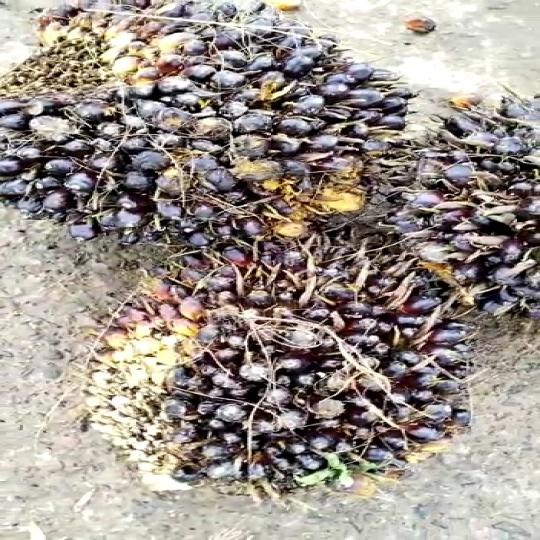mentah: (82, 244, 482, 512), (0, 0, 408, 258)
